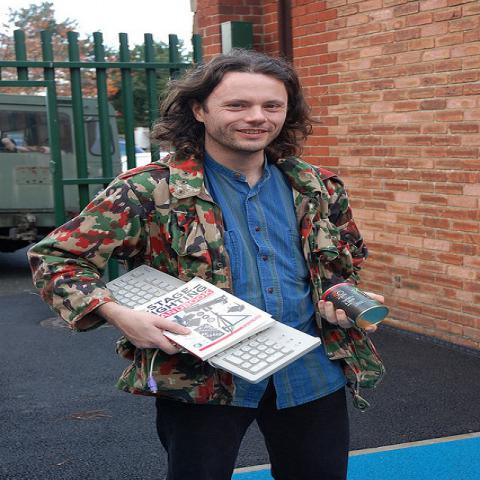truck: (0, 96, 115, 207)
